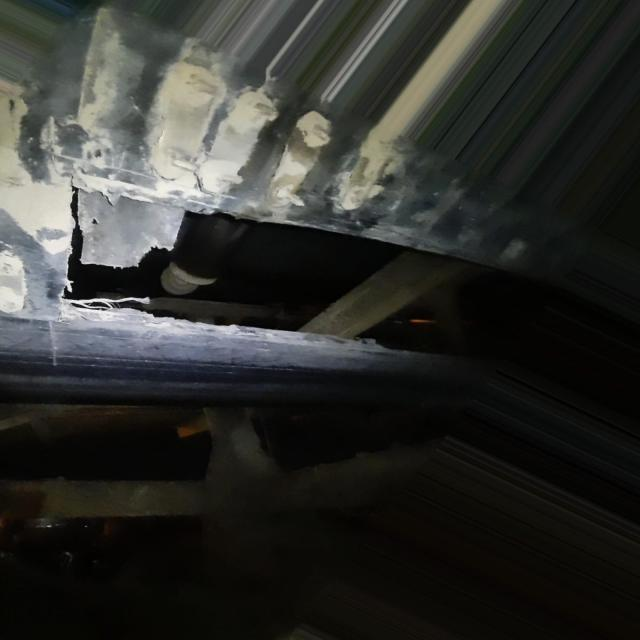Hole: (58, 170, 489, 356)
